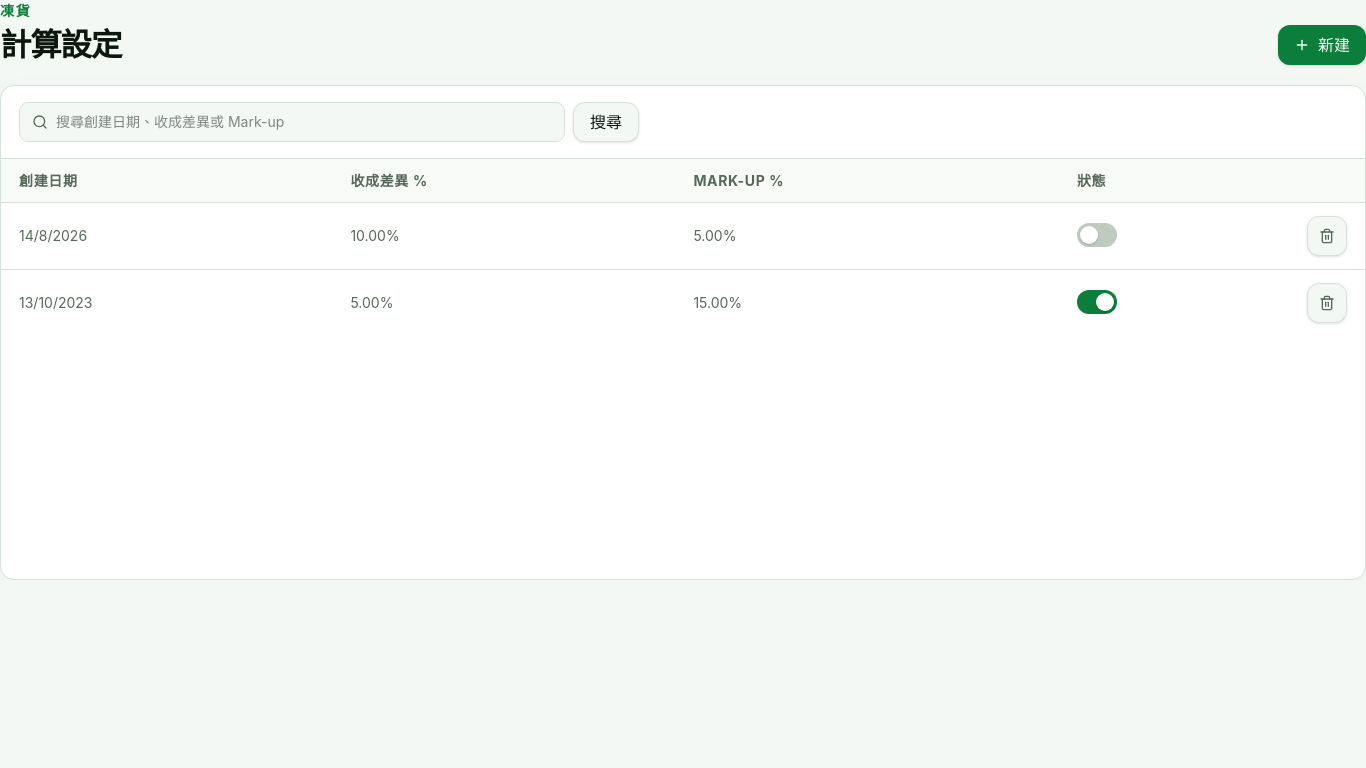
it: Calculation settings page › lists settings and creates a new inactive row
Expected: the heading "計算設定" is shown, [0, 27, 121, 65]
Expected: the text "10.00%" is shown, [332, 202, 675, 269]
Click the button "新建" at (1322, 45), box [1278, 25, 1365, 65]
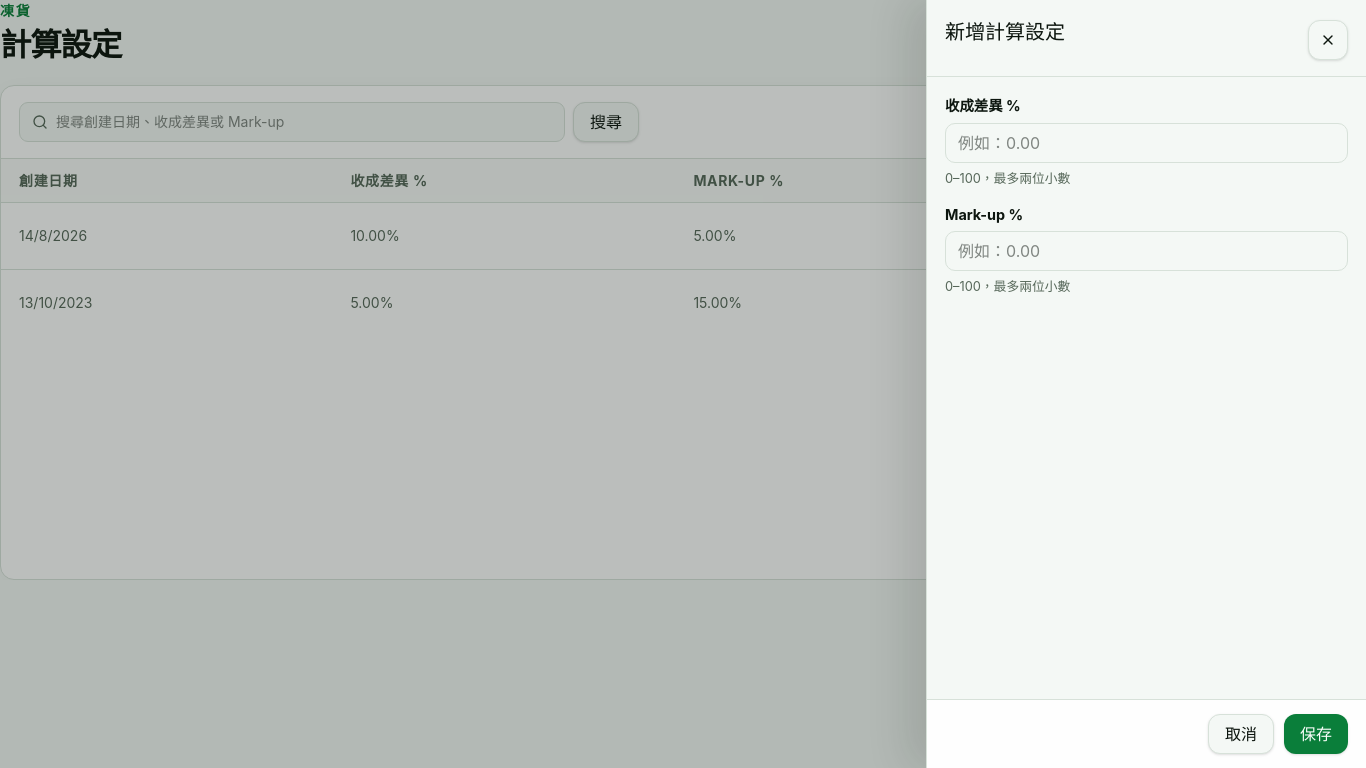
Expected: the number of fields with placeholder "例如：0.00" is 2
Type "12" into the field labelled "收成差異 %" at (1146, 143), box [945, 123, 1348, 163]
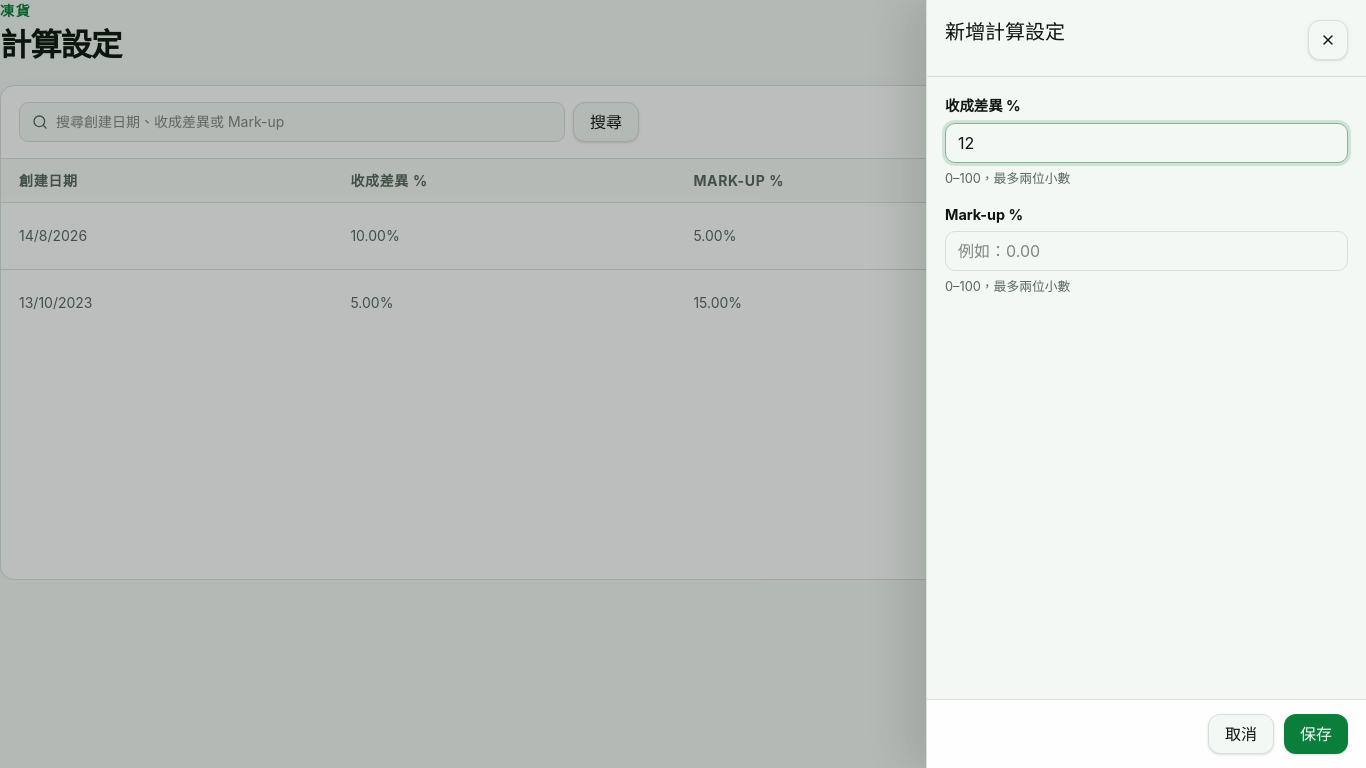
Type "8" into the field labelled "Mark-up %" at (1146, 251), box [945, 231, 1348, 271]
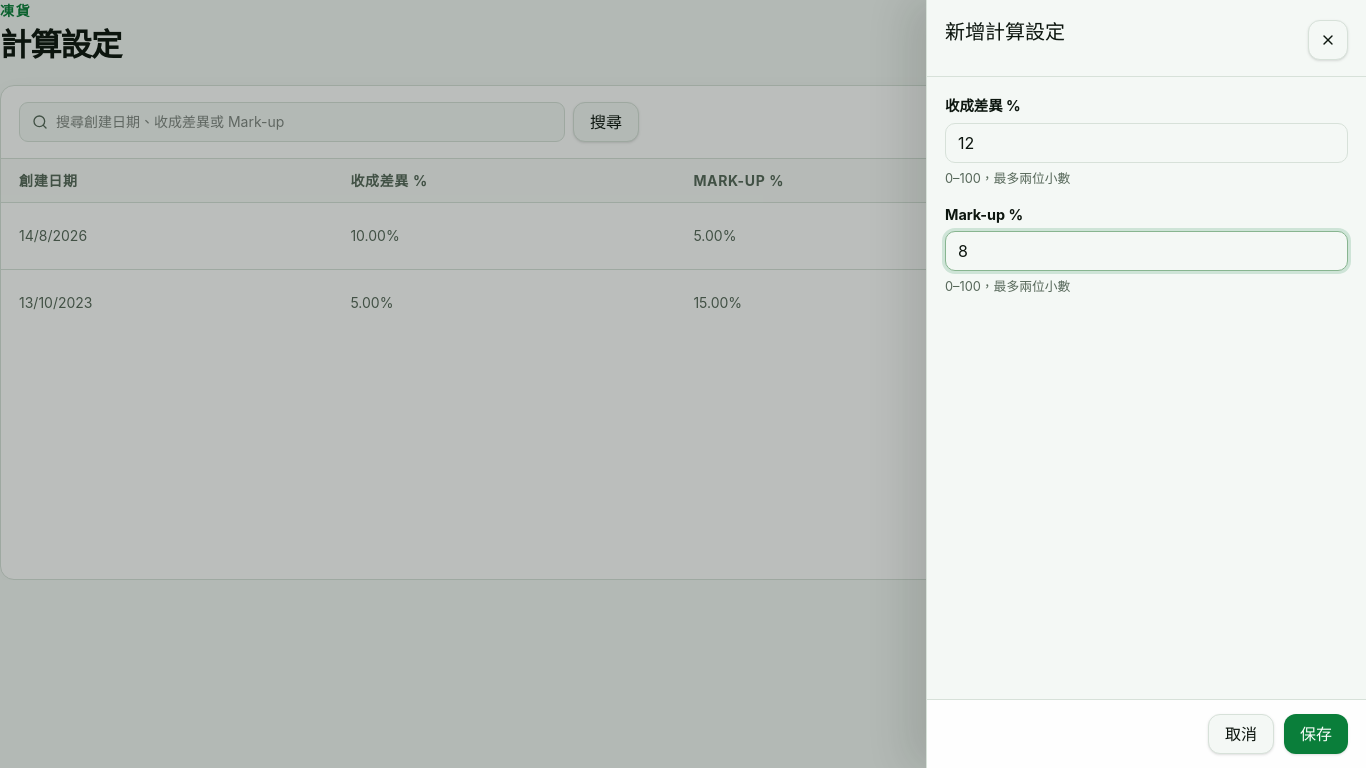
Click the button "保存" at (1316, 734), box [1284, 714, 1348, 754]
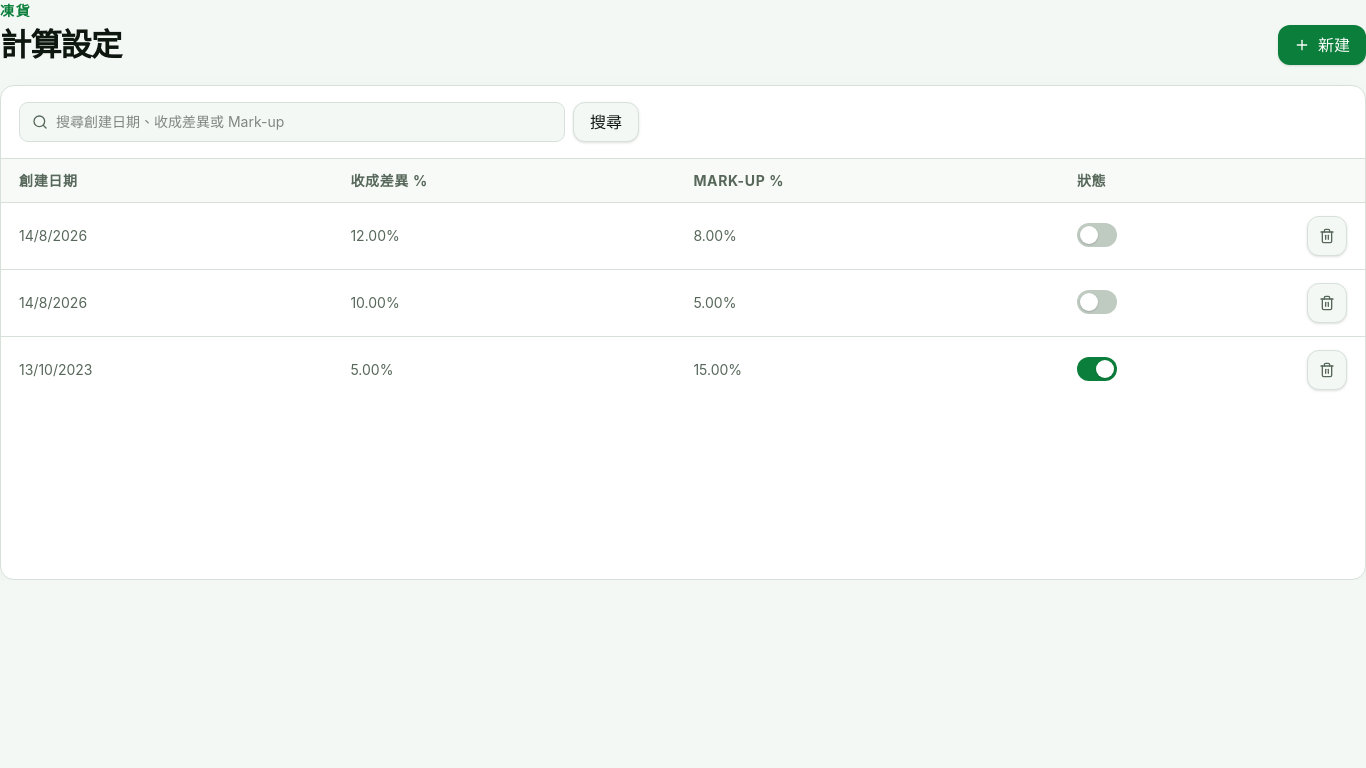
Expected: the text "12.00%" is shown, [332, 202, 675, 269]
